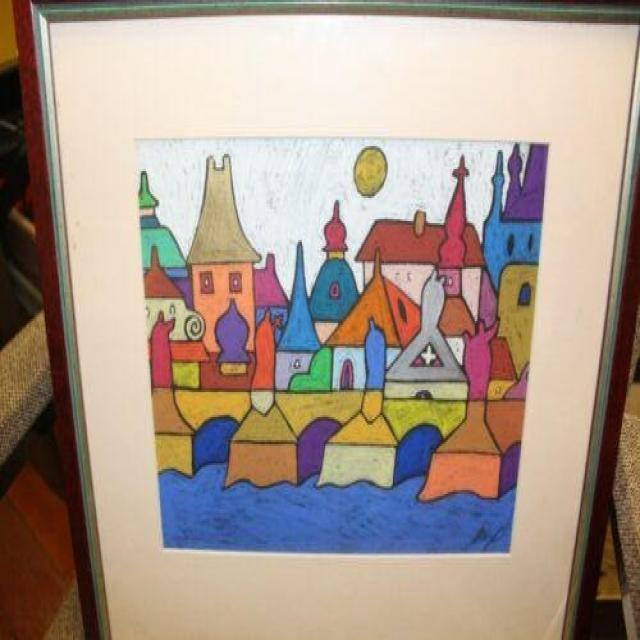painting: (131, 138, 550, 556)
